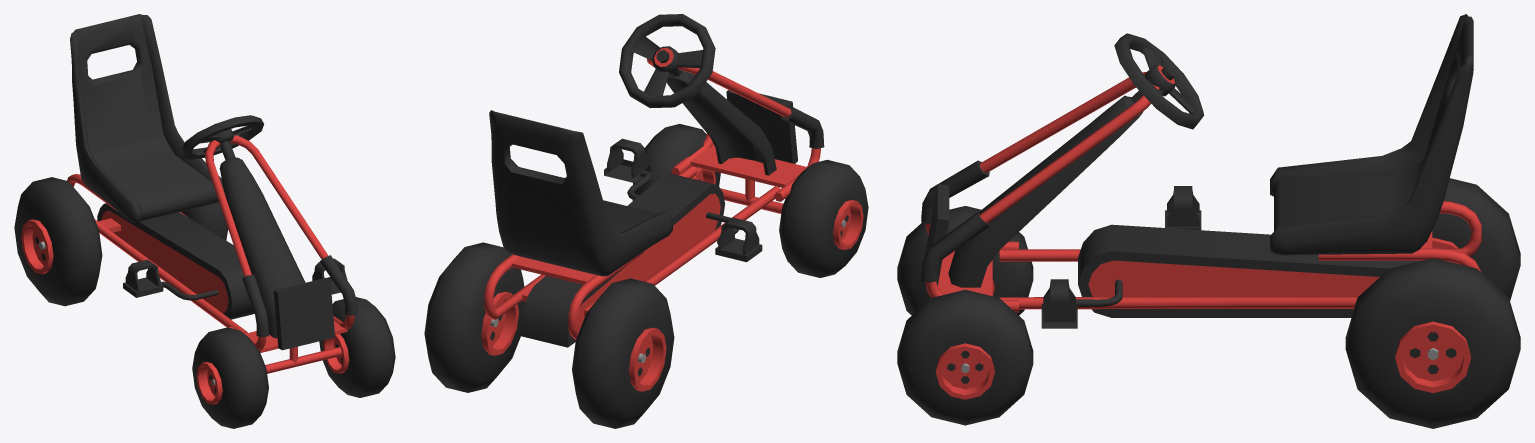
File: GoKart_01.fbx
The picture shows the model from 3 angles, left to right: view 1: azimuth 30°, elevation 25°; view 2: azimuth 150°, elevation 25°; view 3: azimuth 270°, elevation 25°; orthographic projection. The views are drawn at different scales.
Parts seen in each view (by area): view 1: GoKart_01, GoKart_01_Wheel_BR, GoKart_01_Wheel_FR, GoKart_01_Wheel_FL, GoKart_Pedal_R, GoKart_01_Wheel_BL, GoKart_Pedal_L, GoKart_Pedals; view 2: GoKart_01, GoKart_01_Wheel_BR, GoKart_01_Wheel_BL, GoKart_01_Wheel_FR, GoKart_01_Wheel_FL, GoKart_Pedal_R, GoKart_Pedal_L, GoKart_Pedals; view 3: GoKart_01, GoKart_01_Wheel_BL, GoKart_01_Wheel_FL, GoKart_01_Wheel_BR, GoKart_01_Wheel_FR, GoKart_Pedal_L, GoKart_Pedal_R.
Part boxes in pixels (x1,y1,x2,y2): GoKart_01: (67, 14, 357, 373); GoKart_01_Wheel_BR: (14, 177, 102, 306); GoKart_01_Wheel_FR: (192, 327, 268, 428); GoKart_01_Wheel_FL: (319, 297, 395, 397); GoKart_Pedal_R: (123, 259, 163, 297); GoKart_01_Wheel_BL: (181, 158, 228, 240); GoKart_Pedal_L: (312, 258, 347, 294); GoKart_Pedals: (160, 281, 218, 300); GoKart_01: (484, 14, 824, 347); GoKart_01_Wheel_BR: (572, 278, 674, 428); GoKart_01_Wheel_BL: (424, 242, 525, 392); GoKart_01_Wheel_FR: (779, 159, 868, 277); GoKart_01_Wheel_FL: (632, 124, 720, 200); GoKart_Pedal_R: (715, 217, 762, 262); GoKart_Pedal_L: (604, 138, 650, 183); GoKart_Pedals: (627, 170, 738, 244); GoKart_01: (921, 14, 1481, 317); GoKart_01_Wheel_BL: (1345, 258, 1520, 428); GoKart_01_Wheel_FL: (897, 289, 1033, 425); GoKart_01_Wheel_BR: (1432, 178, 1520, 300); GoKart_01_Wheel_FR: (897, 206, 1033, 315); GoKart_Pedal_L: (1041, 279, 1077, 328); GoKart_Pedal_R: (1165, 186, 1201, 230).
Bounding box in the file's own units: 0.8931 × 1.24 × 2.05.
